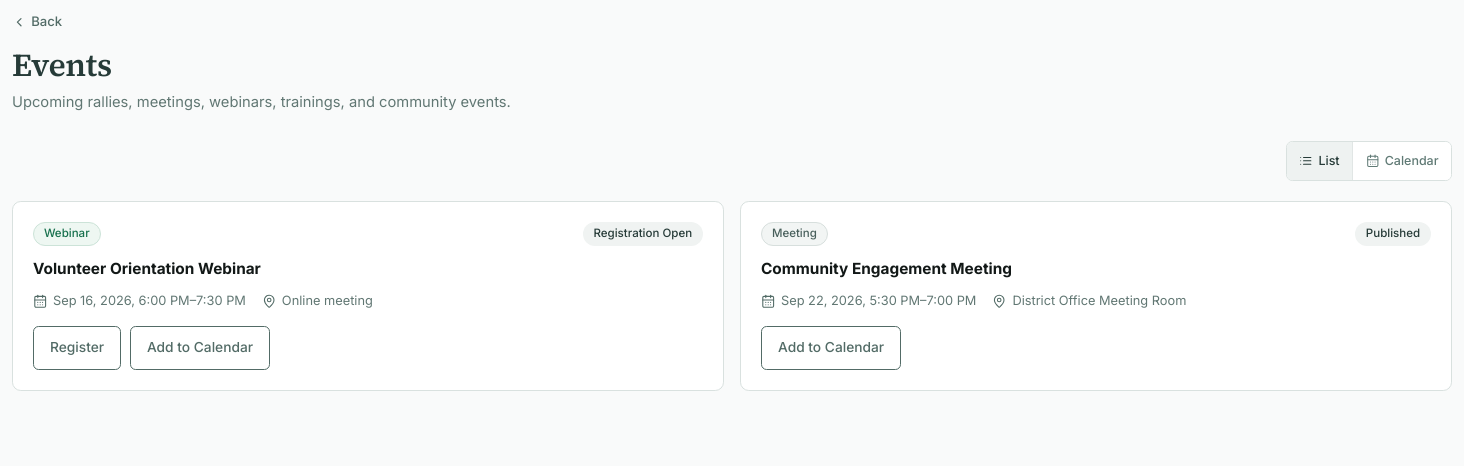
Test: Events › registers through Add to Calendar and marks the event as part of My Calendar
Expected: the element "Volunteer Orientation Webinar" is shown, left=12, top=201, right=724, bottom=391
Expected: the element "Community Engagement Meeting" is shown, left=740, top=201, right=1452, bottom=391
Click the button "Add to Calendar" below "Sep 16, 2026, 6:00 PM–7:30 PM" at (200, 348), box left=130, top=326, right=270, bottom=370
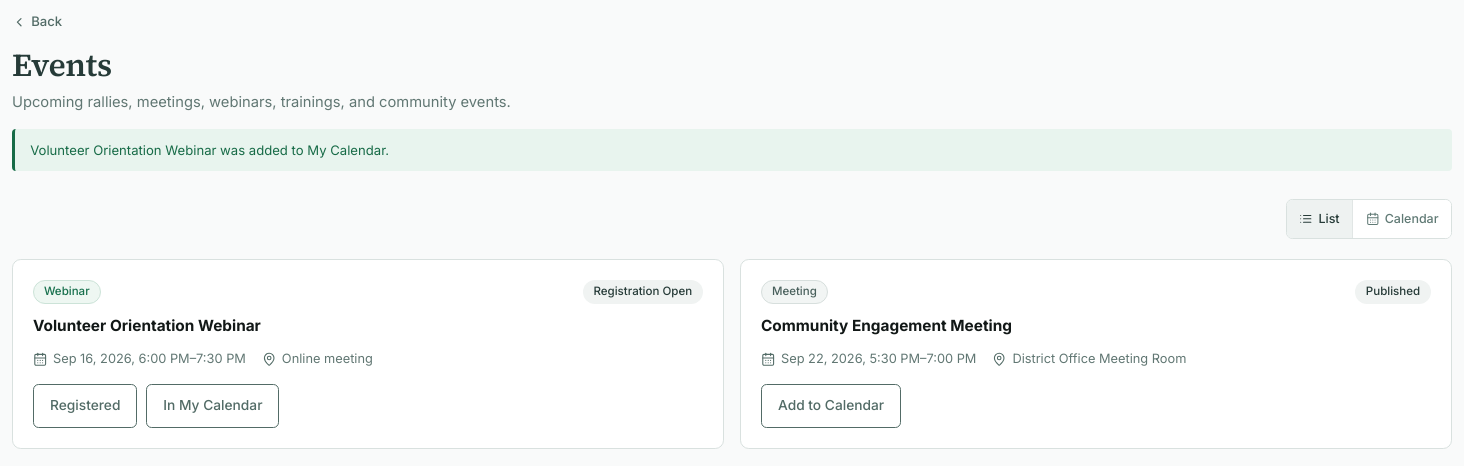
Now the button "Registered" is disabled, box left=33, top=384, right=137, bottom=428
Now the button "In My Calendar" is disabled, box left=146, top=384, right=279, bottom=428
Now the message reads "Volunteer Orientation Webinar was added to My Calendar.", box left=30, top=142, right=389, bottom=158
